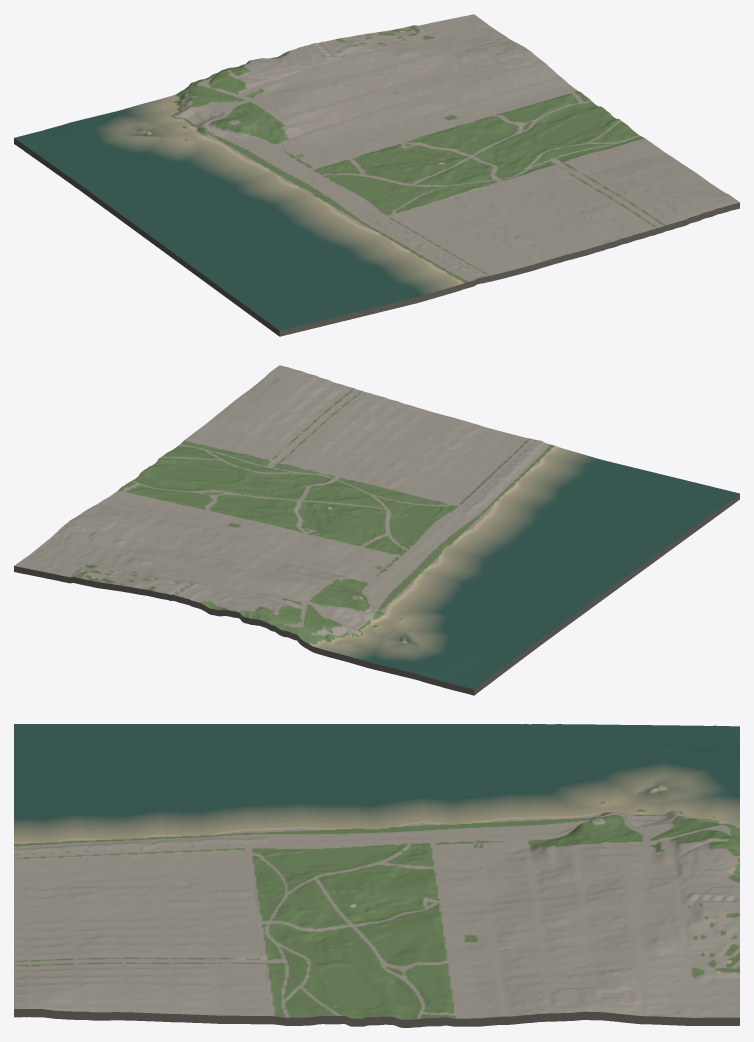
File: terrain_0_3.glb
3 renders of one model, top to bottom at view 1: azimuth 30°, elevation 25°; view 2: azimuth 150°, elevation 25°; view 3: azimuth 270°, elevation 25°, orthographic. The views are drawn at different scales.
Visible parts, largest first — view 1: terrain_0_3; view 2: terrain_0_3; view 3: terrain_0_3.
Part boxes in pixels (x1,y1,x2,y2): terrain_0_3: (14,14,739,336); terrain_0_3: (14,365,739,695); terrain_0_3: (14,724,739,1027).
Bounding box in the file's own units: 3200 × 184 × 3200.
